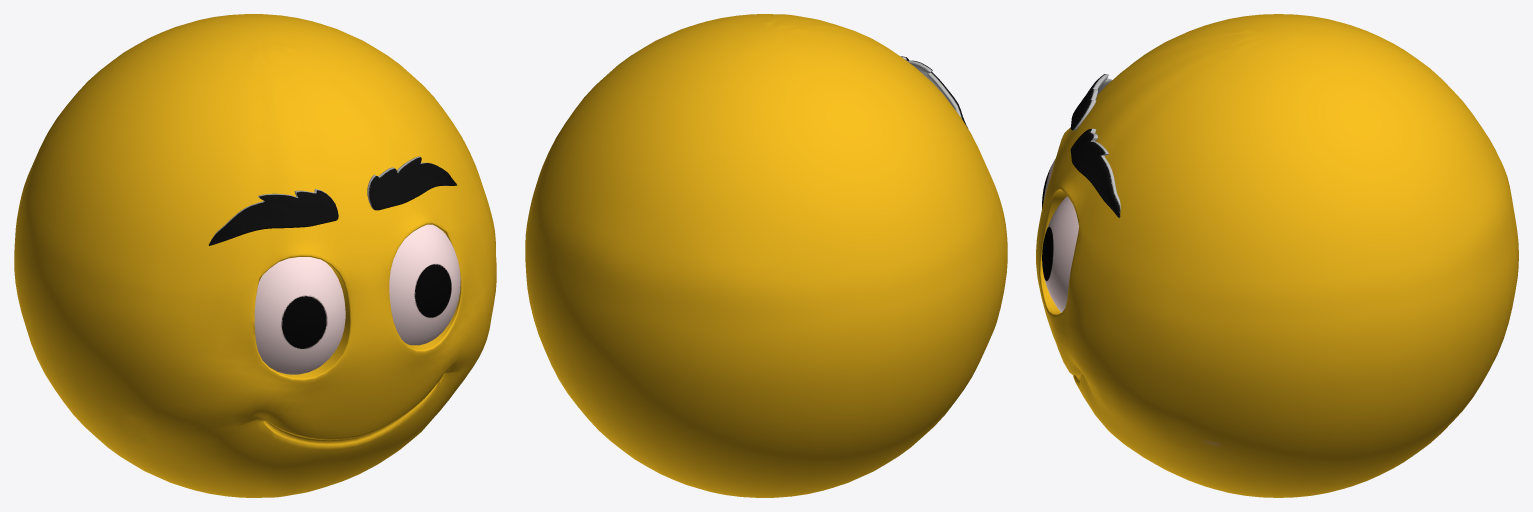
File: smile_000007.obj
The picture shows the model from 3 angles, left to right: view 1: azimuth 30°, elevation 25°; view 2: azimuth 150°, elevation 25°; view 3: azimuth 270°, elevation 25°; orthographic projection.
Parts seen in each view (by area): view 1: Smile_Base1:polySurface1_Untitled; view 2: Smile_Base1:polySurface1_Untitled; view 3: Smile_Base1:polySurface1_Untitled.
Part boxes in pixels (box(x1,y1,x2,y2)): Smile_Base1:polySurface1_Untitled: box(14, 14, 496, 497); Smile_Base1:polySurface1_Untitled: box(525, 14, 1007, 497); Smile_Base1:polySurface1_Untitled: box(1036, 14, 1518, 497).
Size of the model in its own units: 0.0425 by 0.0431 by 0.0428.
Materials: 1 (1 with a texture image).
